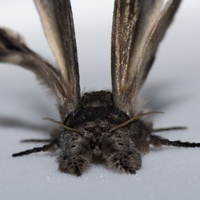insect: (140, 0, 199, 141), (71, 0, 113, 92), (0, 0, 55, 65)
